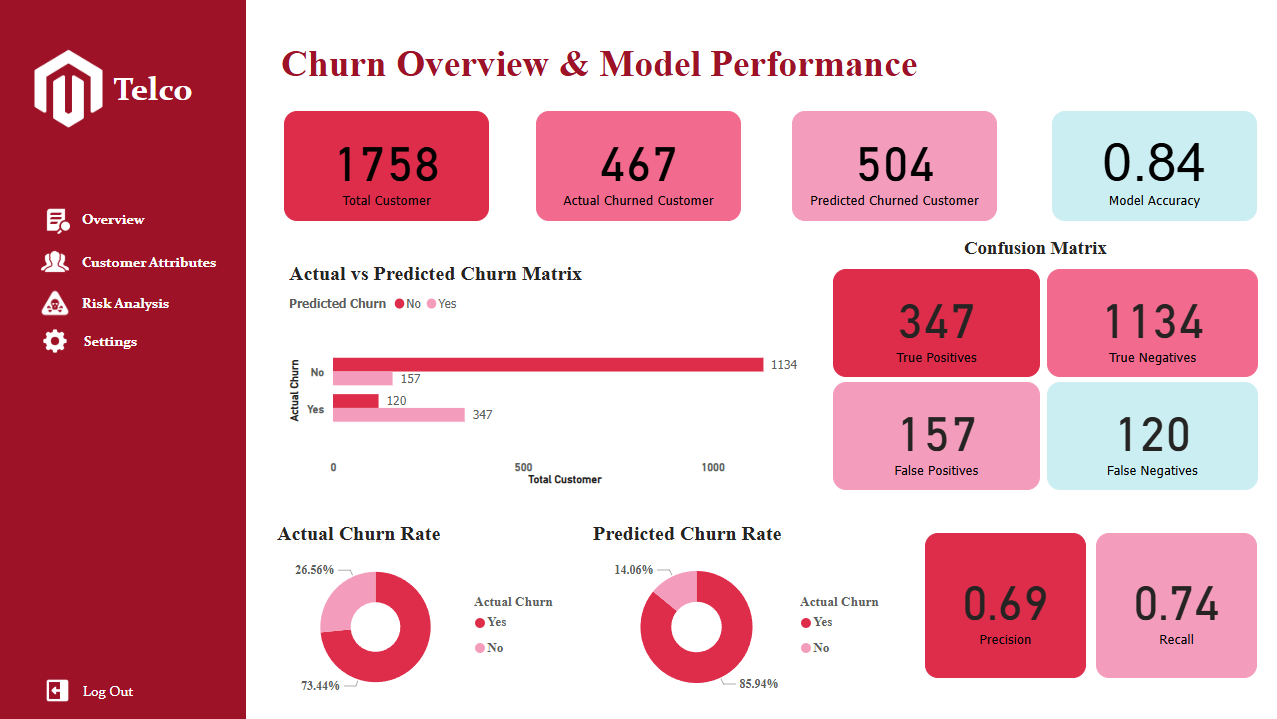

What the dashboard file says about the page in this screenshot:
{"tool":"powerbi","page":{"name":"Overview","canvas":[1280,720],"ordinal":0},"visuals":[{"type":"card","fields":{"Values":["final_churn_data.Total_Customer"]},"box":[285,111,205,110],"z":0},{"type":"card","fields":{"Values":["final_churn_data.Actual_Churned_Customer"]},"box":[537,111,205,110],"z":1000},{"type":"card","fields":{"Values":["final_churn_data.Predicted_Churned_Customer"]},"box":[793,111,205,110],"z":2000},{"type":"card","fields":{"Values":["final_churn_data.ModelAccuracy"]},"box":[1053,111,205,110],"z":3000},{"type":"clusteredBarChart","title":"Actual vs Predicted Churn Matrix","fields":{"Category":["final_churn_data.Actual Churn"],"Series":["final_churn_data.Predicted Churn"],"Y":["final_churn_data.Total_Customer"]},"box":[285,261.6,530.1,228.6],"z":4000},{"type":"card","fields":{"Values":["final_churn_data.Precision"]},"box":[926,533,161.5,144.9],"z":5000},{"type":"card","fields":{"Values":["final_churn_data.Recall"]},"box":[1097.1,533,160.5,144.9],"z":6000},{"type":"donutChart","title":"Actual Churn Rate","fields":{"Y":["final_churn_data.ChurnRateActual"],"Category":["final_churn_data.Actual Churn"]},"box":[273.3,522.3,300.5,187.7],"z":7000},{"type":"donutChart","title":"Predicted Churn Rate","fields":{"Category":["final_churn_data.Actual Churn"],"Y":["final_churn_data.ChurnRatePredicted"]},"box":[589.4,522.3,319,187.7],"z":8000},{"type":"shape","box":[0,0,247,720],"z":9000},{"type":"textbox","box":[96,65,116,66],"z":10000},{"type":"actionButton","box":[37.8,230,173.3,33.3],"z":11000},{"type":"actionButton","box":[70,318.9,100,40],"z":12000},{"type":"textbox","box":[78,206,116,43],"z":13000},{"type":"textbox","box":[78,249,176,42],"z":14000},{"type":"textbox","box":[78,290,152,42],"z":15000},{"type":"textbox","box":[79,678,152,42],"z":16000},{"type":"image","box":[34.4,282.2,42.2,42.2],"z":17000},{"type":"image","box":[28.9,243.3,53.3,37.8],"z":18000},{"type":"image","box":[35.6,671.1,44.4,38.9],"z":19000},{"type":"textbox","box":[80,328,152,38],"z":20000},{"type":"image","box":[14.4,318.9,82.2,44.4],"z":21000},{"type":"image","box":[8.9,41.1,121.1,94.4],"z":22000},{"type":"image","box":[25.6,202.2,62.2,36.7],"z":23000},{"type":"card","fields":{"Values":["final_churn_data.True Positives"]},"box":[833.6,269.4,207.2,108],"z":24000},{"type":"card","fields":{"Values":["final_churn_data.False Positives"]},"box":[833.6,382.2,207.2,108],"z":25000},{"type":"card","fields":{"Values":["final_churn_data.False Negatives"]},"box":[1047.6,382.2,211.1,108],"z":26000},{"type":"card","fields":{"Values":["final_churn_data.True Negatives"]},"box":[1047.6,269.4,211.1,108],"z":27000},{"type":"textbox","box":[959.5,232,163,34],"z":28000},{"type":"textbox","box":[277,37,767,59],"z":29000},{"type":"actionButton","box":[34,247,191,33],"z":30000},{"type":"actionButton","box":[29,286,191,33],"z":31000}]}

Visuals, with their boxes on the page's 1280x720 design canvas (x1, y1, x2, y2). These are canvas units, not pixel positions in the 1277x719 screenshot, which may show the page scaled, cropped or inside an application window:
card - final_churn_data.Total_Customer: x1=285 y1=111 x2=490 y2=221
card - final_churn_data.Actual_Churned_Customer: x1=537 y1=111 x2=742 y2=221
card - final_churn_data.Predicted_Churned_Customer: x1=793 y1=111 x2=998 y2=221
card - final_churn_data.ModelAccuracy: x1=1053 y1=111 x2=1258 y2=221
"Actual vs Predicted Churn Matrix" clusteredBarChart: x1=285 y1=262 x2=815 y2=490
card - final_churn_data.Precision: x1=926 y1=533 x2=1088 y2=678
card - final_churn_data.Recall: x1=1097 y1=533 x2=1258 y2=678
"Actual Churn Rate" donutChart: x1=273 y1=522 x2=574 y2=710
"Predicted Churn Rate" donutChart: x1=589 y1=522 x2=908 y2=710
shape: x1=0 y1=0 x2=247 y2=720
textbox: x1=96 y1=65 x2=212 y2=131
actionButton: x1=38 y1=230 x2=211 y2=263
actionButton: x1=70 y1=319 x2=170 y2=359
textbox: x1=78 y1=206 x2=194 y2=249
textbox: x1=78 y1=249 x2=254 y2=291
textbox: x1=78 y1=290 x2=230 y2=332
textbox: x1=79 y1=678 x2=231 y2=720
image: x1=34 y1=282 x2=77 y2=324
image: x1=29 y1=243 x2=82 y2=281
image: x1=36 y1=671 x2=80 y2=710
textbox: x1=80 y1=328 x2=232 y2=366
image: x1=14 y1=319 x2=97 y2=363
image: x1=9 y1=41 x2=130 y2=136
image: x1=26 y1=202 x2=88 y2=239
card - final_churn_data.True Positives: x1=834 y1=269 x2=1041 y2=377
card - final_churn_data.False Positives: x1=834 y1=382 x2=1041 y2=490
card - final_churn_data.False Negatives: x1=1048 y1=382 x2=1259 y2=490
card - final_churn_data.True Negatives: x1=1048 y1=269 x2=1259 y2=377
textbox: x1=960 y1=232 x2=1122 y2=266
textbox: x1=277 y1=37 x2=1044 y2=96
actionButton: x1=34 y1=247 x2=225 y2=280
actionButton: x1=29 y1=286 x2=220 y2=319
